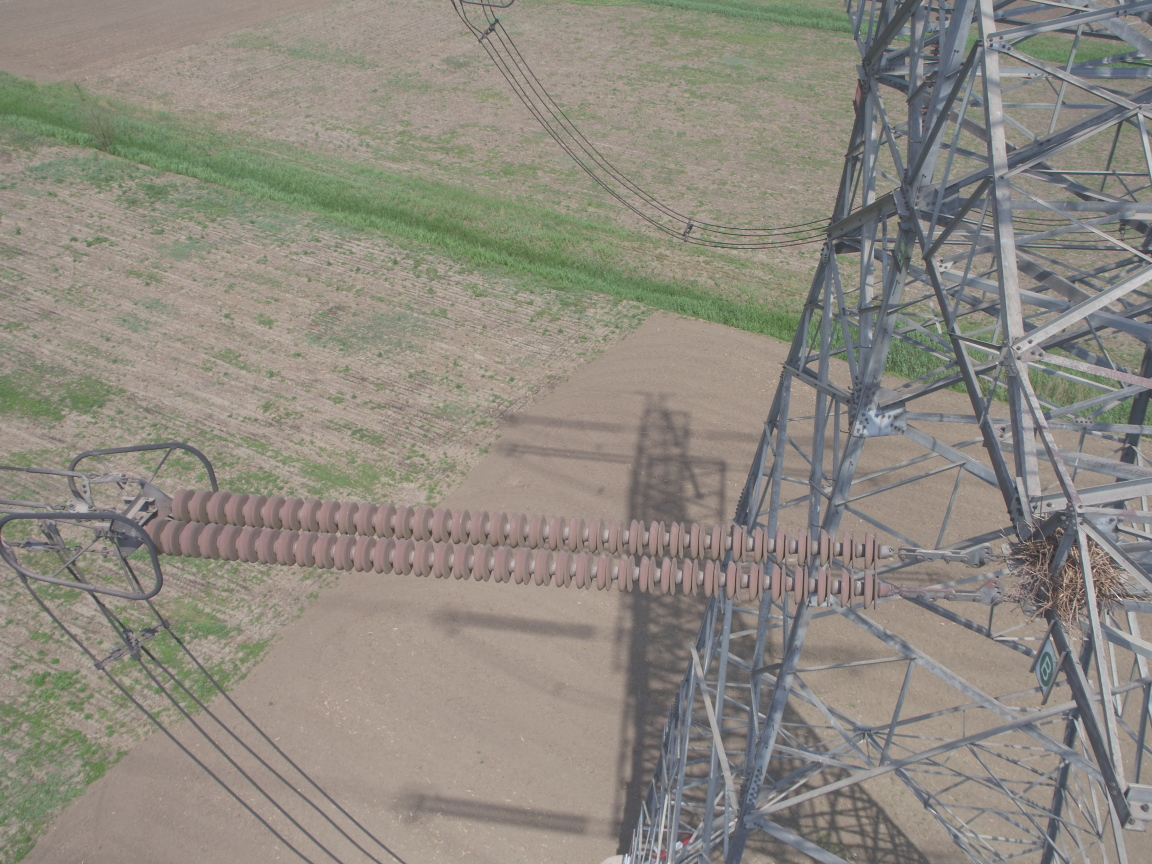insulator: (128, 482, 922, 614)
